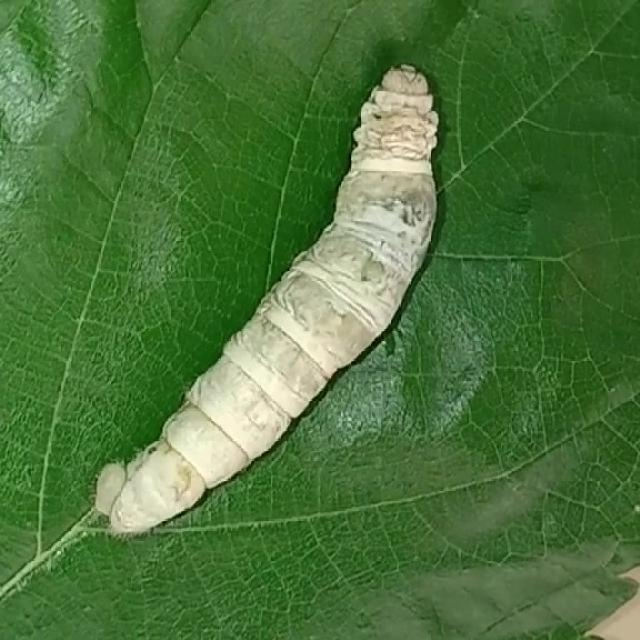Grasserie: (89, 53, 463, 549)
